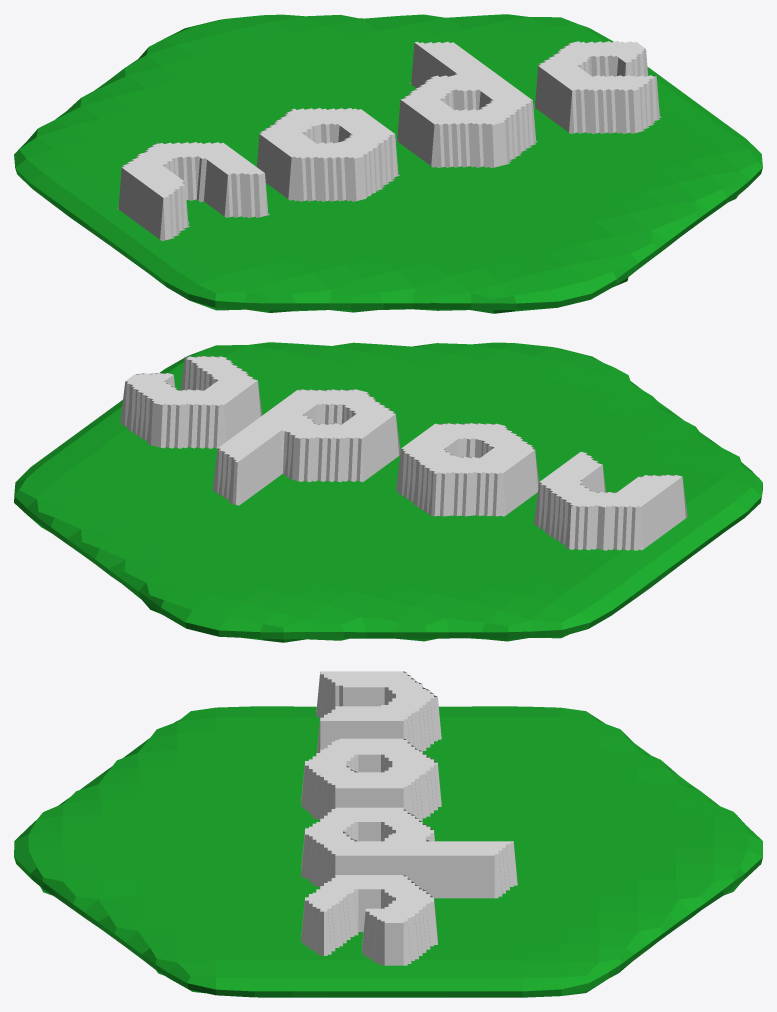
3 renders of one model, top to bottom at view 1: azimuth 30°, elevation 25°; view 2: azimuth 150°, elevation 25°; view 3: azimuth 270°, elevation 25°, orthographic.
Visible parts, largest first — view 1: Plane.001; view 2: Plane.001; view 3: Plane.001.
Part boxes in pixels (<box>): Plane.001: <box>14,14,762,313</box>; Plane.001: <box>14,342,762,642</box>; Plane.001: <box>14,671,762,997</box>.
Size of the model in its own units: 879 by 93.16 by 977.
